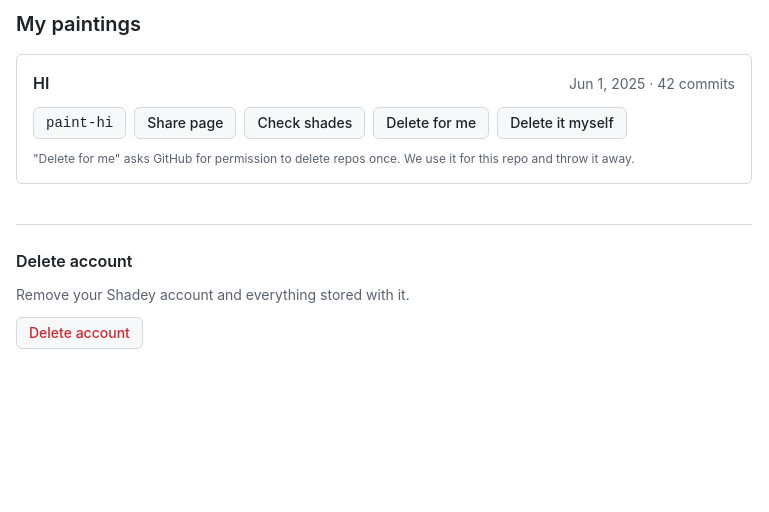
Test: MyPaintingsPage › explains when GitHub still has the repo
Click the button "Delete it myself" at (562, 123), box x1=497 y1=107 x2=627 y2=139
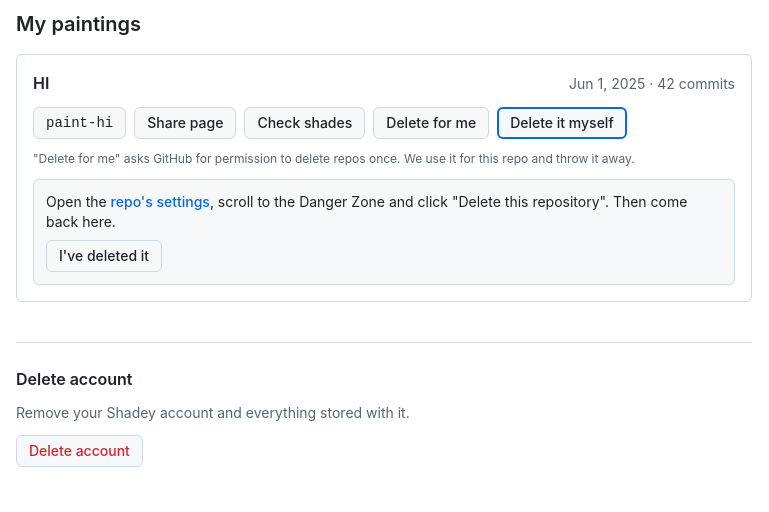
Click the button "I've deleted it" at (104, 256), box x1=46 y1=240 x2=162 y2=272
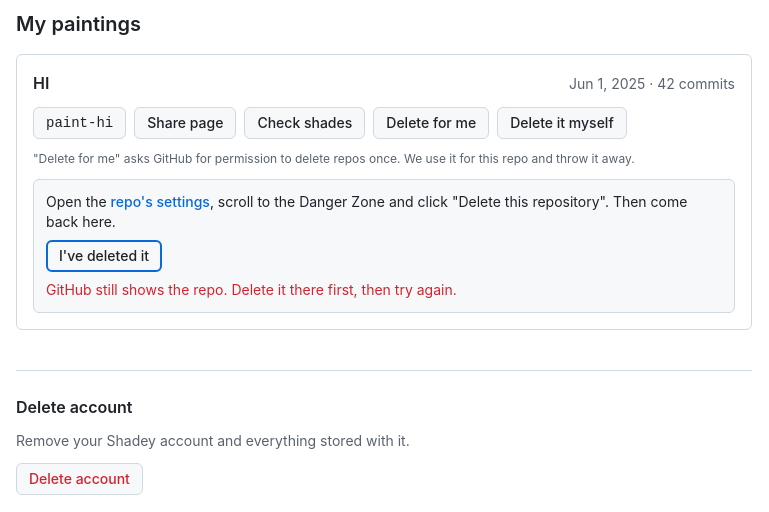
expect the text "GitHub still shows the repo" is shown: met, box x1=46 y1=281 x2=457 y2=298
